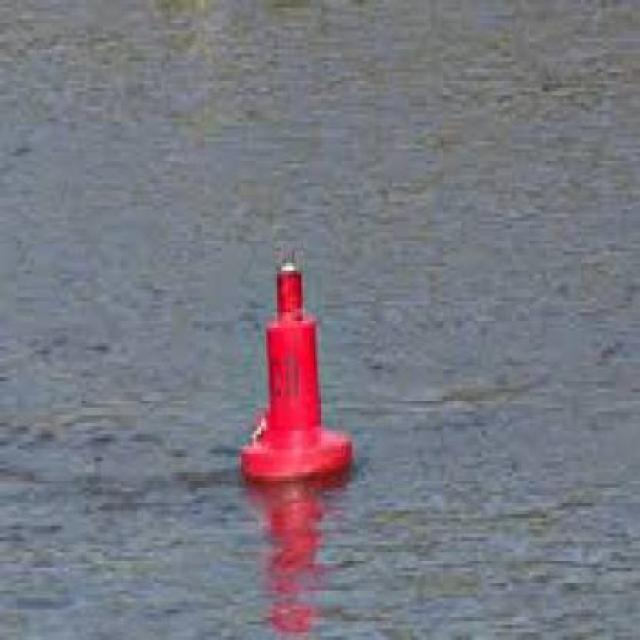buoy: (236, 230, 367, 504)
